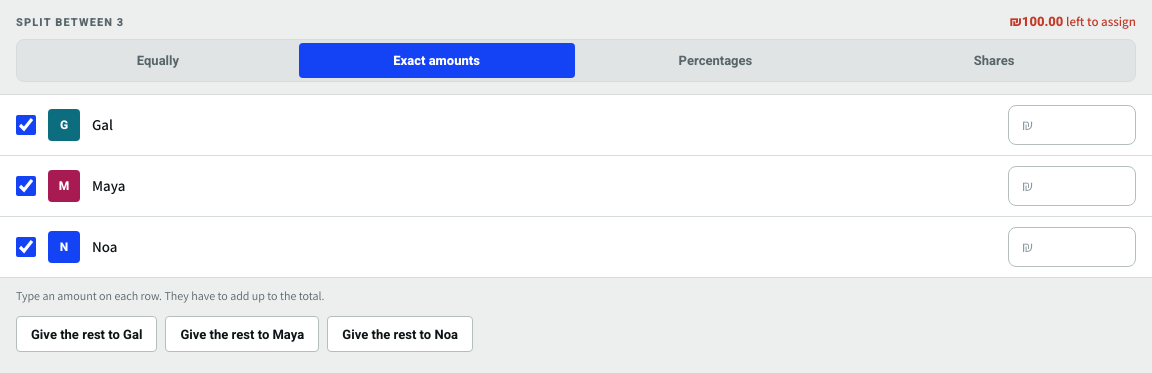
validation › offers to hand the remainder to one person
The width and height of the screenshot is (1152, 373).
Type "50" into the field named "Gal's amount" at [1072, 125], box 1008,105 -> 1136,145
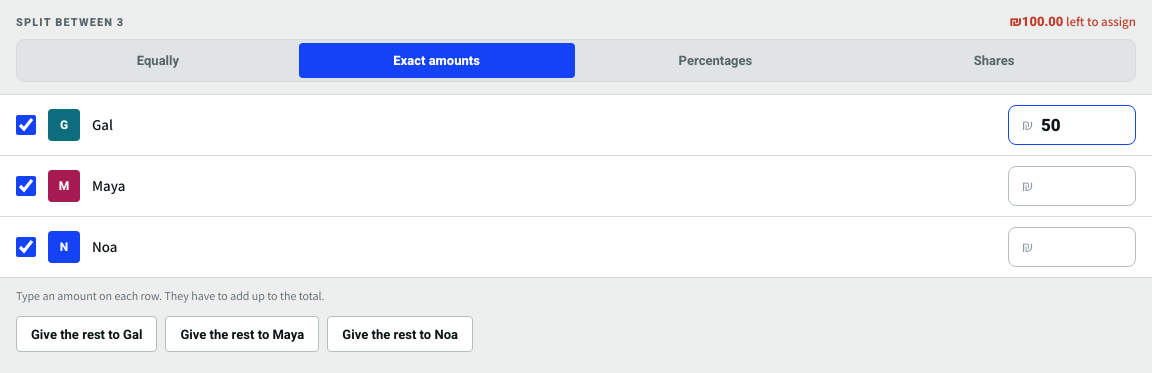
Press Tab
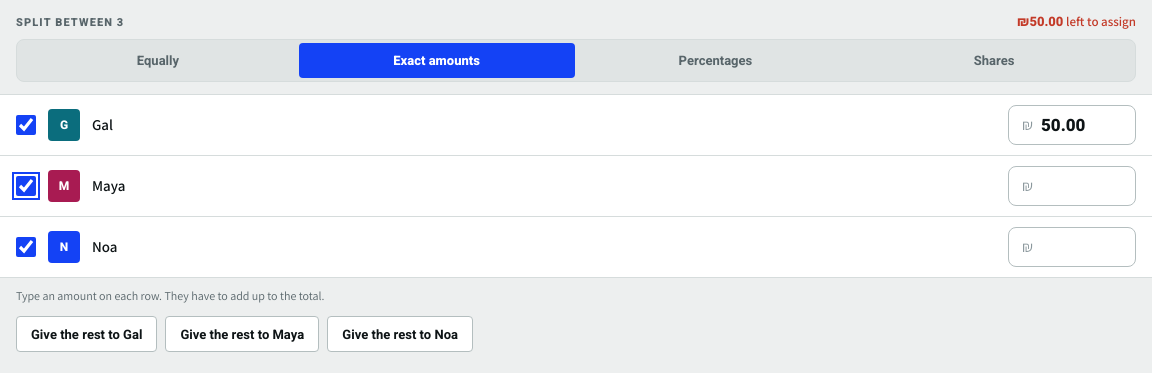
Click the button "Give the rest to Maya" at [242, 334], box 165,316 -> 319,352
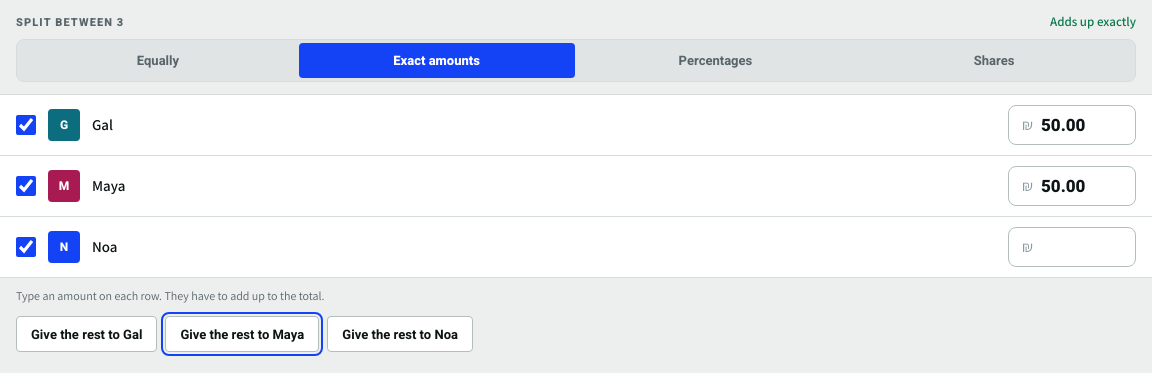
Expected: the field named "Maya's amount" holds "50.00", 1008,166 -> 1136,206
